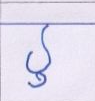u_matra: (28, 72, 48, 88)
